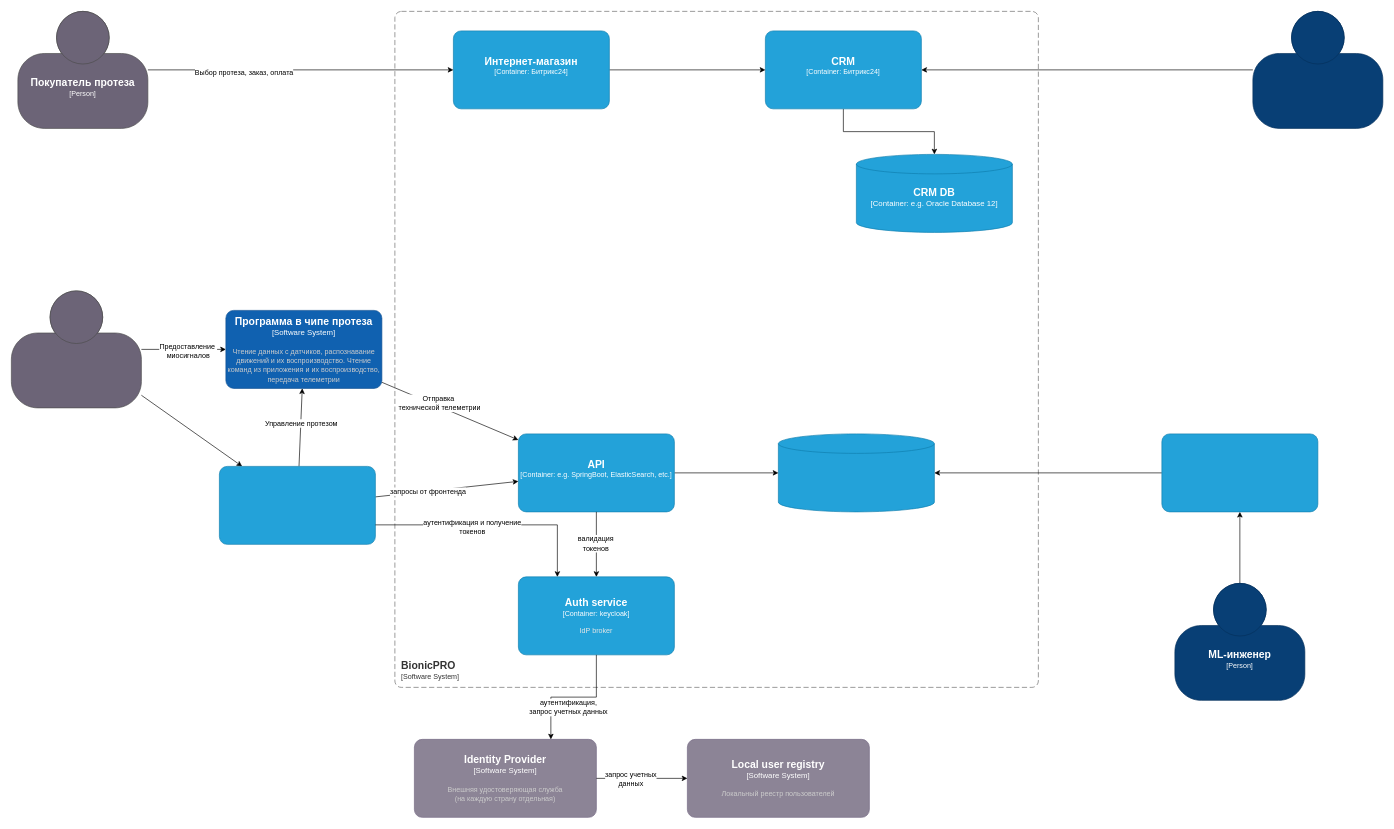
The diagram is 1394 pixels wide and 829 high, and some of its shapes have lost their labels. The shapes that lost their labels are listed below. From the top down, each one's centre as x and y in pixels, then its label:
At point 1317,69: "Оператор производства [Person]".
At point 76,349: "Пилот протеза [Person] С этого человека считываются данные".
At point 856,472: "База данных [Container: PostgreSQL]".
At point 1239,472: "cli tool [Container: e.g. SpringBoot, ElasticSearch, etc.]".
At point 297,505: "Приложение для донастройки протеза [Container: iOD, Android]".
